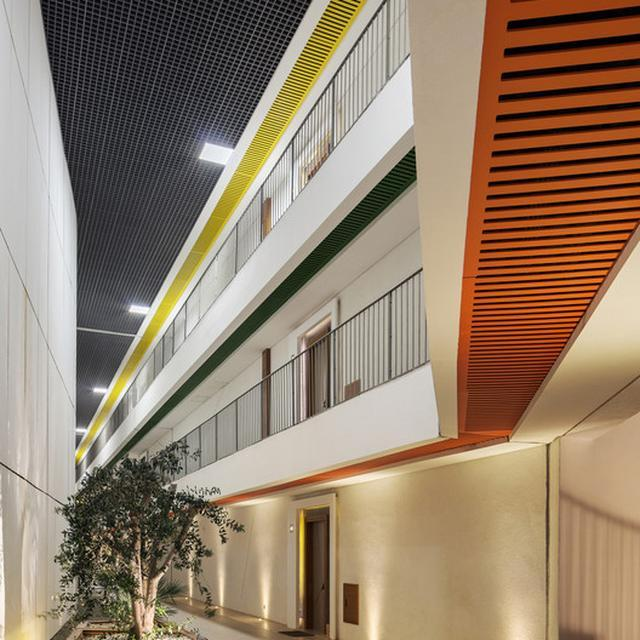building: (82, 2, 640, 640)
